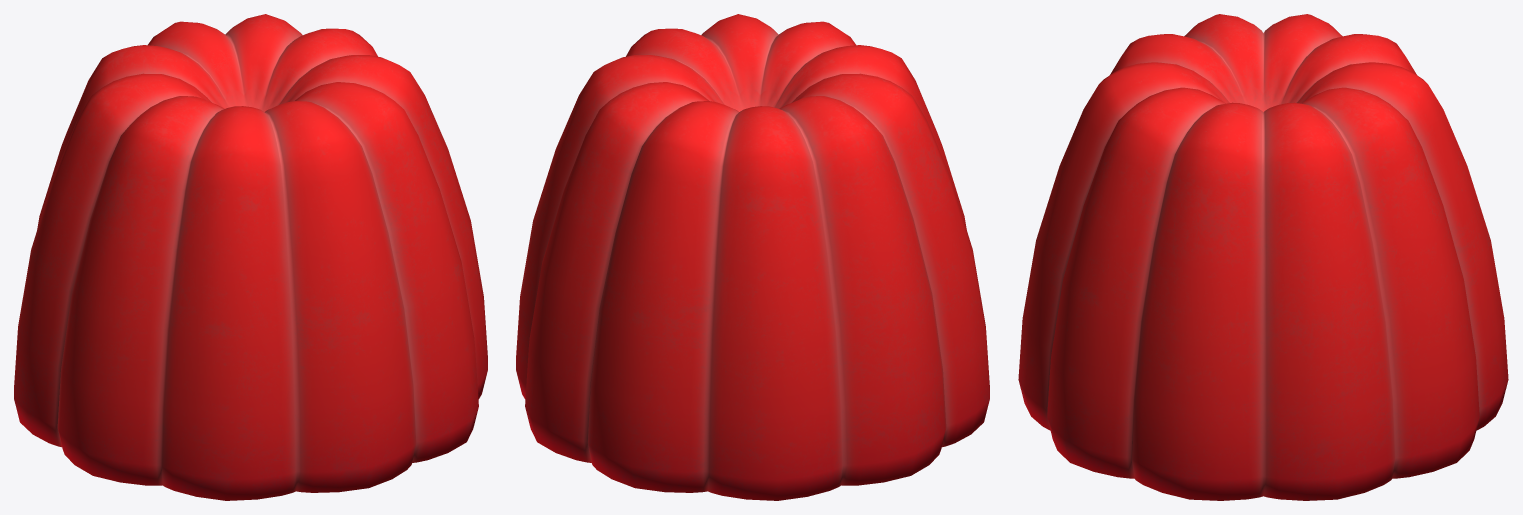
File: jelly_v3.fbx
The picture shows the model from 3 angles, left to right: view 1: azimuth 30°, elevation 25°; view 2: azimuth 150°, elevation 25°; view 3: azimuth 270°, elevation 25°; orthographic projection.
Parts seen in each view (by area): view 1: pSphere5; view 2: pSphere5; view 3: pSphere5.
Part boxes in pixels (box(x1,y1,x2,y2)): pSphere5: box(14, 14, 487, 500); pSphere5: box(516, 14, 989, 500); pSphere5: box(1018, 14, 1508, 500).
Size of the model in its own units: 216 by 173 by 224.
Materials: 1 (1 with a texture image).
